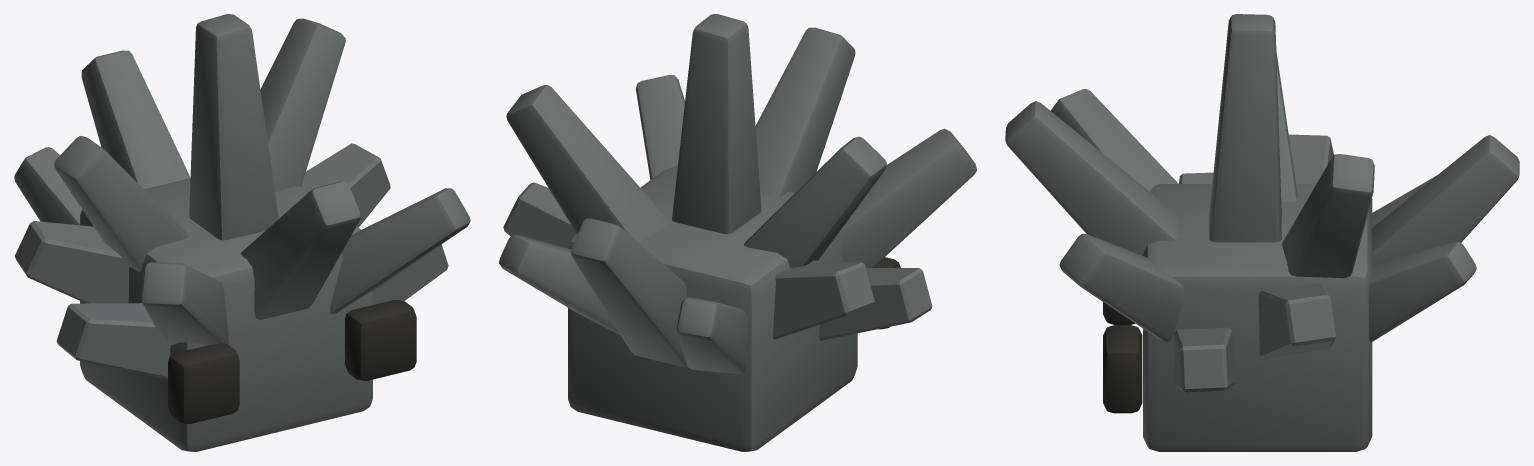
The model's file is hedgehog.obj.
The picture shows the model from 3 angles, left to right: view 1: azimuth 30°, elevation 25°; view 2: azimuth 150°, elevation 25°; view 3: azimuth 270°, elevation 25°; orthographic projection. The views are drawn at different scales.
Parts seen in each view (by area): view 1: Hedgehog; view 2: Hedgehog; view 3: Hedgehog.
Boxes of the visible parts, x1=… form: Hedgehog: x1=14, y1=14, x2=470, y2=451; Hedgehog: x1=499, y1=14, x2=976, y2=451; Hedgehog: x1=1005, y1=14, x2=1519, y2=451.
Bounding box in the file's own units: 1.06 × 1.02 × 1.23.
Materials: 1 (1 with a texture image).
